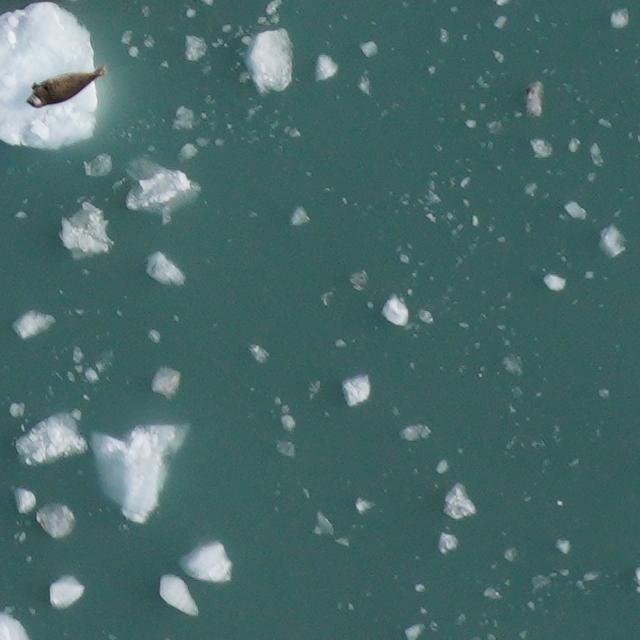seal: (23, 61, 113, 112)
